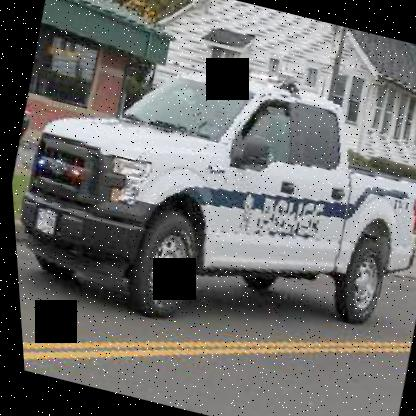emergency: (1, 20, 415, 366)
